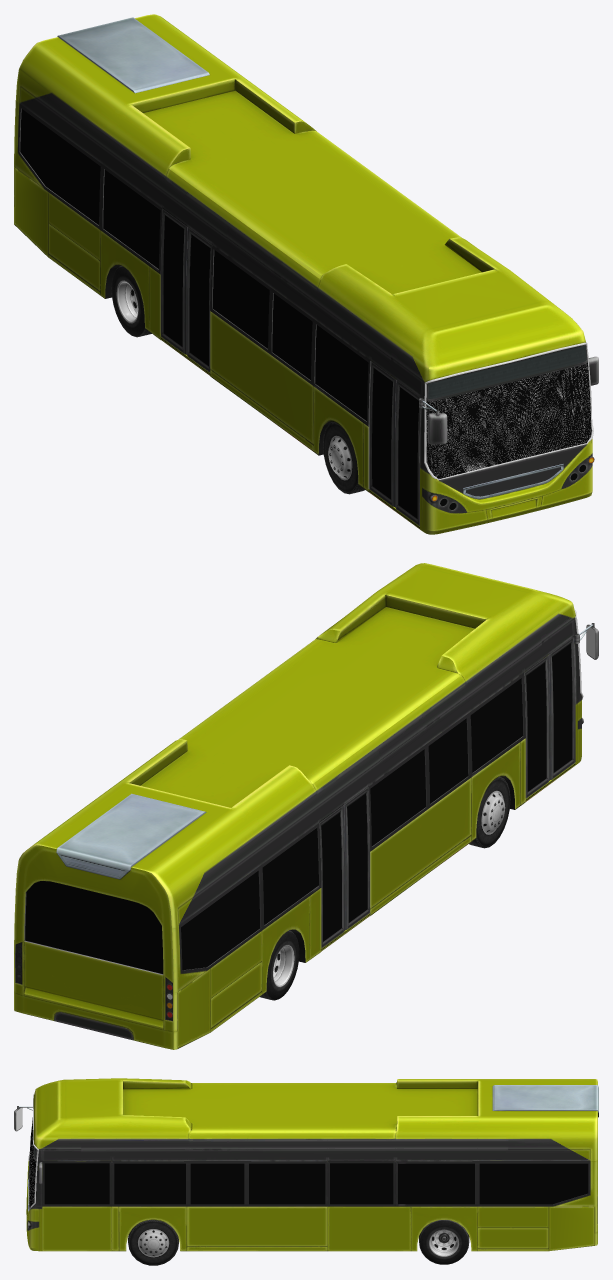
Rendered from hq-city-bus-lod.glb.
3 renders of one model, top to bottom at view 1: azimuth 30°, elevation 25°; view 2: azimuth 150°, elevation 25°; view 3: azimuth 270°, elevation 25°, orthographic. The views are drawn at different scales.
Visible parts, largest first — view 1: low_body, glass, windshiel0, windshield, display, Plane004, Plane003, Plane002, Plane005, wheel_f_1_1, wheel_r_1_1, Object005_volvo_exterior_0 (+5 smaller); view 2: low_body, glass, Plane004, Plane003, Plane005, Plane002, wheel_f_1_1, wheel_r_1_1, interior_l, Object004_volvo_exterior_0, Object003_volvo_exterior_0, Object005_volvo_exterior_0 (+1 smaller); view 3: low_body, glass, driver_win, wheel_f_1, wheel_r_1, windshiel0.
Part boxes in pixels (x1,y1,x2,y2): low_body: (14, 14, 598, 534); glass: (20, 109, 585, 509); windshiel0: (426, 362, 591, 479); windshield: (426, 364, 590, 478); display: (428, 345, 586, 398); Plane004: (372, 368, 392, 499); Plane003: (189, 234, 210, 366); Plane002: (163, 215, 184, 346); Plane005: (398, 387, 418, 518); wheel_f_1_1: (323, 422, 364, 494); wheel_r_1_1: (111, 265, 151, 337); Object005_volvo_exterior_0: (369, 361, 396, 507); low_body: (14, 563, 598, 1049); glass: (25, 678, 522, 973); Plane004: (526, 662, 546, 791); Plane003: (347, 793, 367, 922); Plane005: (552, 643, 572, 772); Plane002: (321, 812, 341, 941); wheel_f_1_1: (469, 776, 510, 848); wheel_r_1_1: (260, 930, 299, 1000); interior_l: (24, 637, 575, 974); Object004_volvo_exterior_0: (549, 637, 574, 780); Object003_volvo_exterior_0: (344, 787, 369, 930); Object005_volvo_exterior_0: (523, 655, 549, 798); low_body: (14, 1078, 598, 1251); glass: (114, 1163, 588, 1204); driver_win: (44, 1163, 109, 1204); wheel_f_1: (128, 1220, 178, 1265); wheel_r_1: (419, 1220, 469, 1264); windshiel0: (29, 1117, 36, 1207).
Bounding box in the file's own units: 2.86 × 3.05 × 11.45.
Materials: 16 (10 with a texture image).
